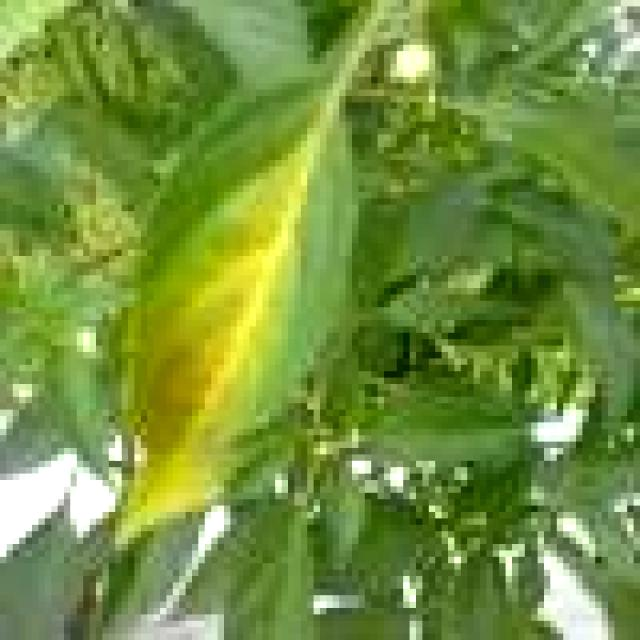yellowish leaf: (123, 135, 374, 533)
